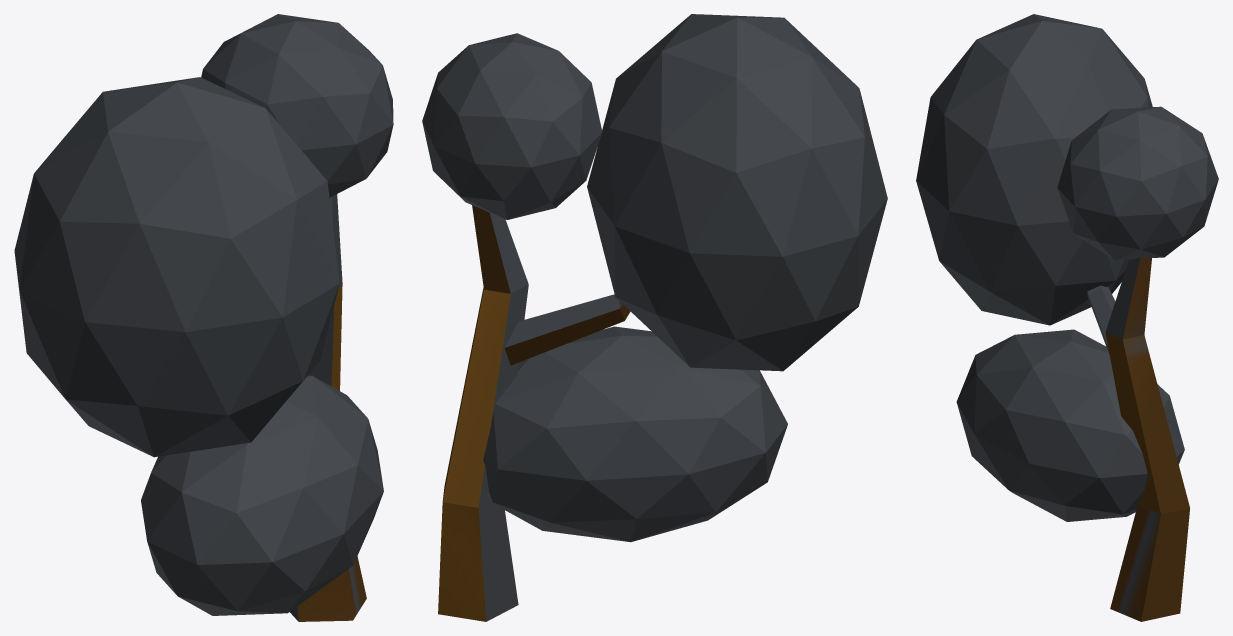
The model's file is Bush1.obj.
The picture shows the model from 3 angles, left to right: view 1: azimuth 30°, elevation 25°; view 2: azimuth 150°, elevation 25°; view 3: azimuth 270°, elevation 25°; orthographic projection. The views are drawn at different scales.
Visible parts, largest first — view 1: Cylinder.003; view 2: Cylinder.003; view 3: Cylinder.003.
Boxes of the visible parts, x1,y1,x2,y2 form: Cylinder.003: (14,14,393,621); Cylinder.003: (422,14,887,621); Cylinder.003: (916,14,1218,621).
Bounding box in the file's own units: 3.03 × 4.45 × 2.43.
